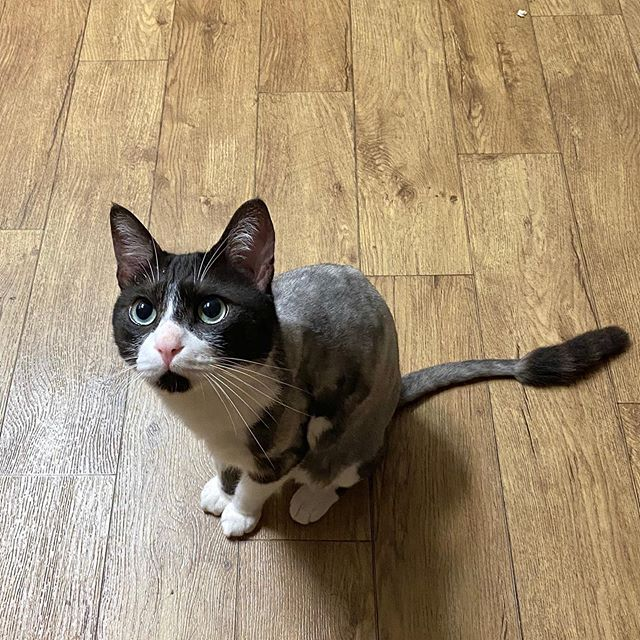cat: (94, 183, 307, 396)
